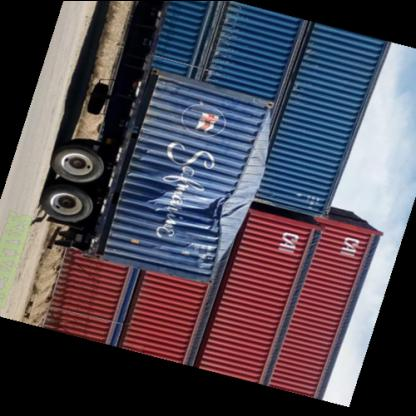Damage: (154, 94, 272, 286)
